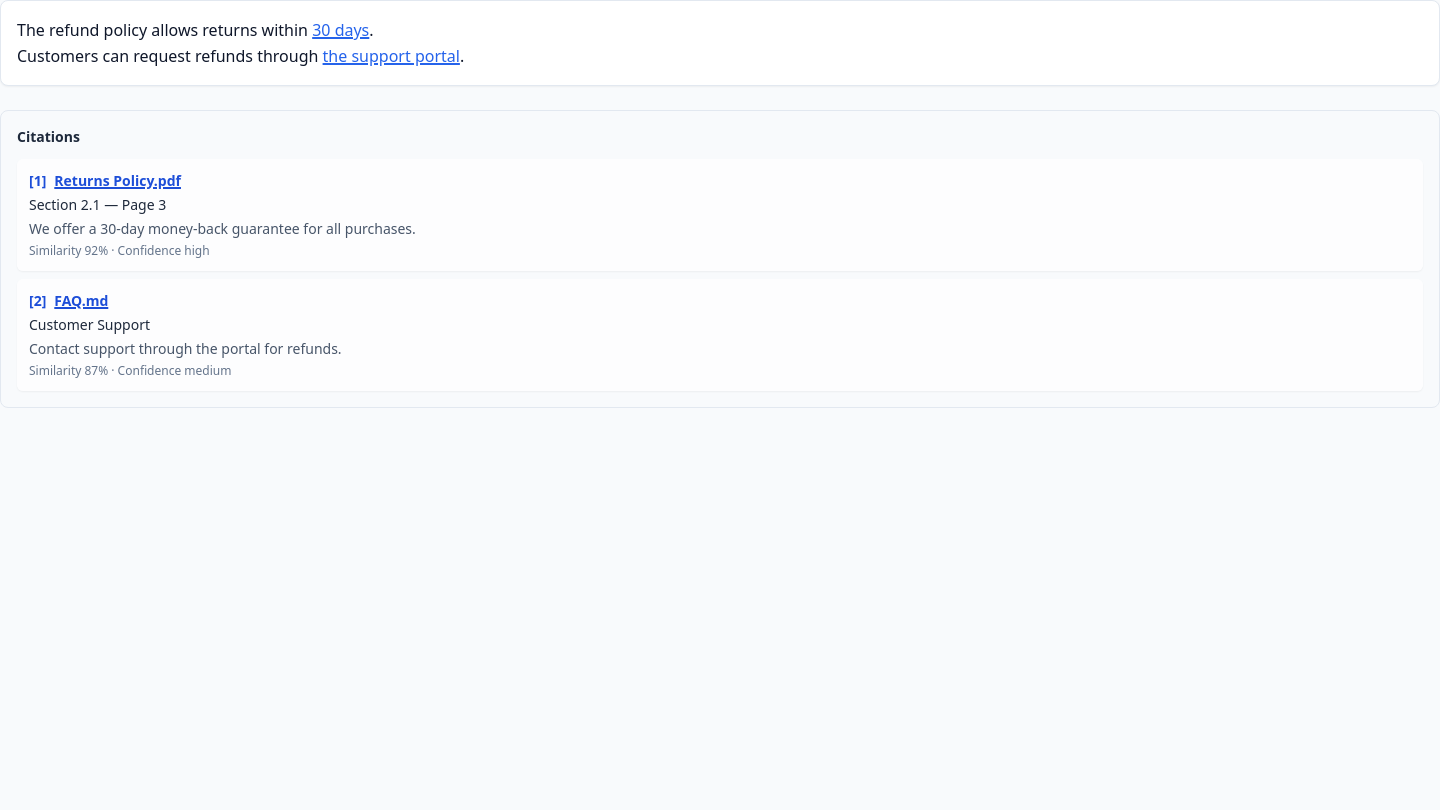
Test: AnnotatedAnswer › closes source viewer on button click
// Click inline citation to open
What coordinates should you click on to do the following:
click the text "30 days"
I would click on:
 (341, 30)
Its box is x1=312 y1=19 x2=369 y2=41.
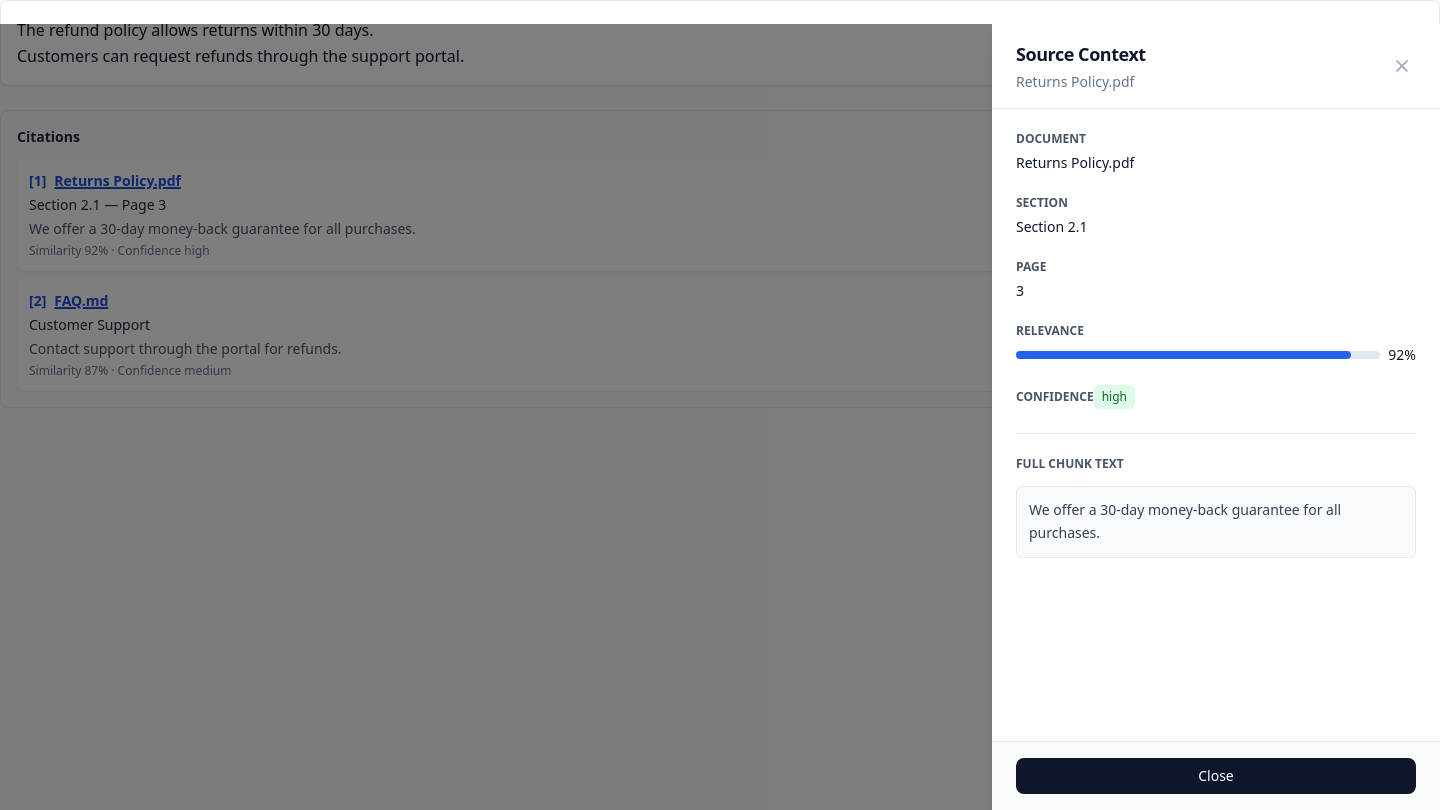
Now the heading "Source Context" is shown, box x1=1016 y1=42 x2=1146 y2=66
// Click close button
What coordinates should you click on to do the following:
click the button "Close"
I would click on:
 (1216, 776)
Its box is x1=1016 y1=758 x2=1416 y2=794.
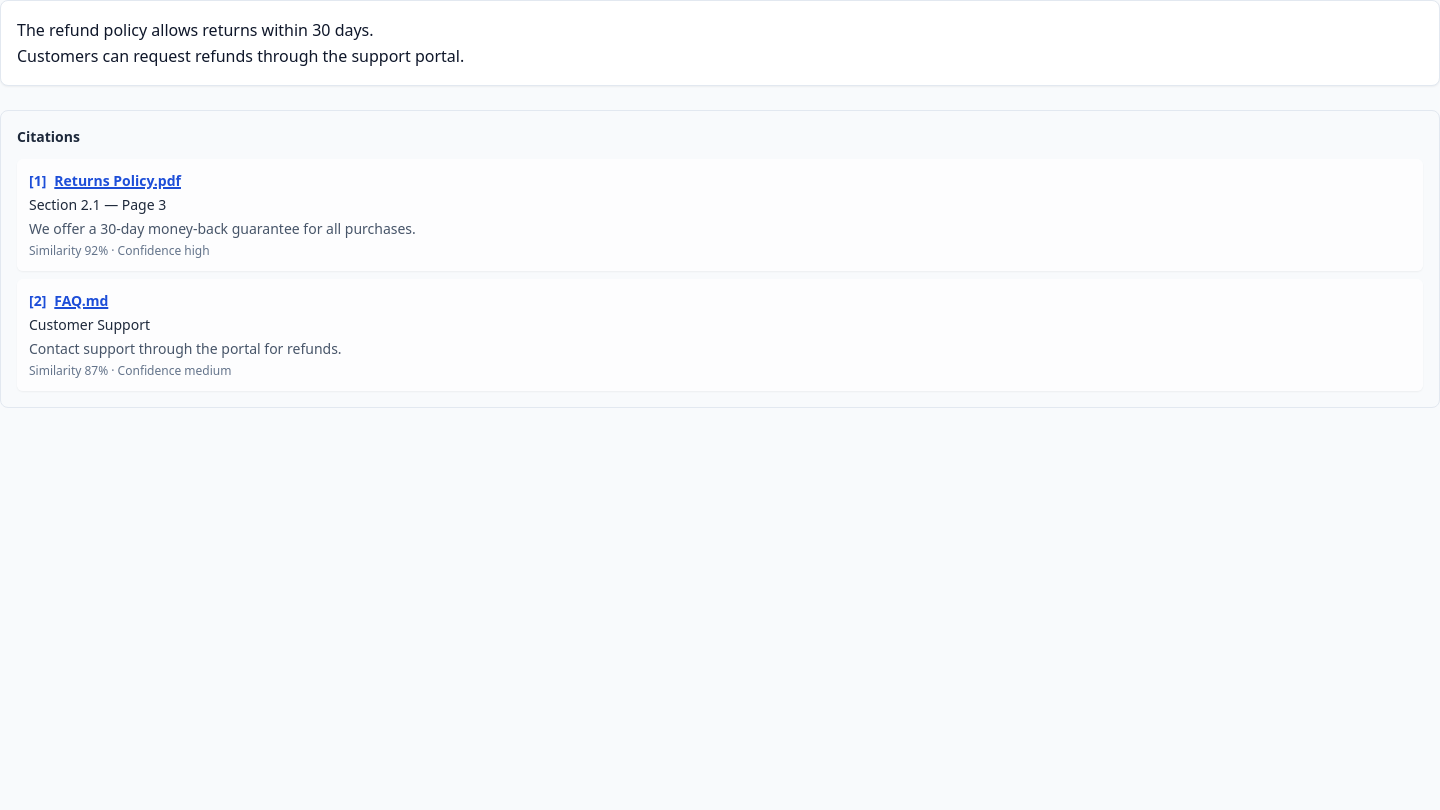
Now the heading "Source Context" is gone
